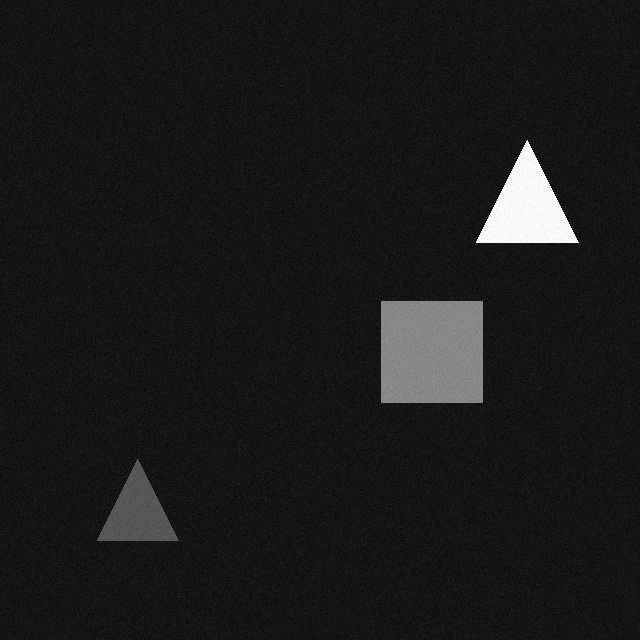square: (392, 287, 493, 388)
triangle: (487, 126, 589, 228), (108, 445, 189, 526)
